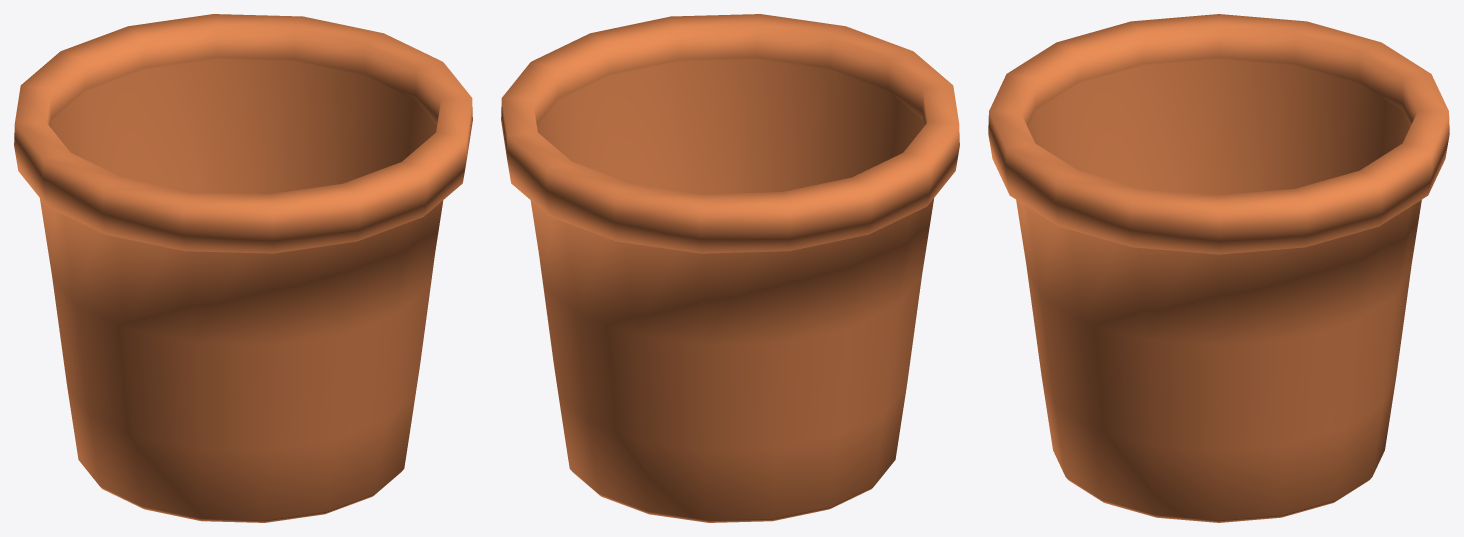
Rendered from Potter4.fbx.
The picture shows the model from 3 angles, left to right: view 1: azimuth 30°, elevation 25°; view 2: azimuth 150°, elevation 25°; view 3: azimuth 270°, elevation 25°; orthographic projection.
Parts seen in each view (by area): view 1: Cylinder; view 2: Cylinder; view 3: Cylinder.
Part boxes in pixels (<box>): Cylinder: <box>14,14,472,522</box>; Cylinder: <box>501,14,959,522</box>; Cylinder: <box>988,14,1449,522</box>.
Size of the model in its own units: 126 by 103 by 126.
